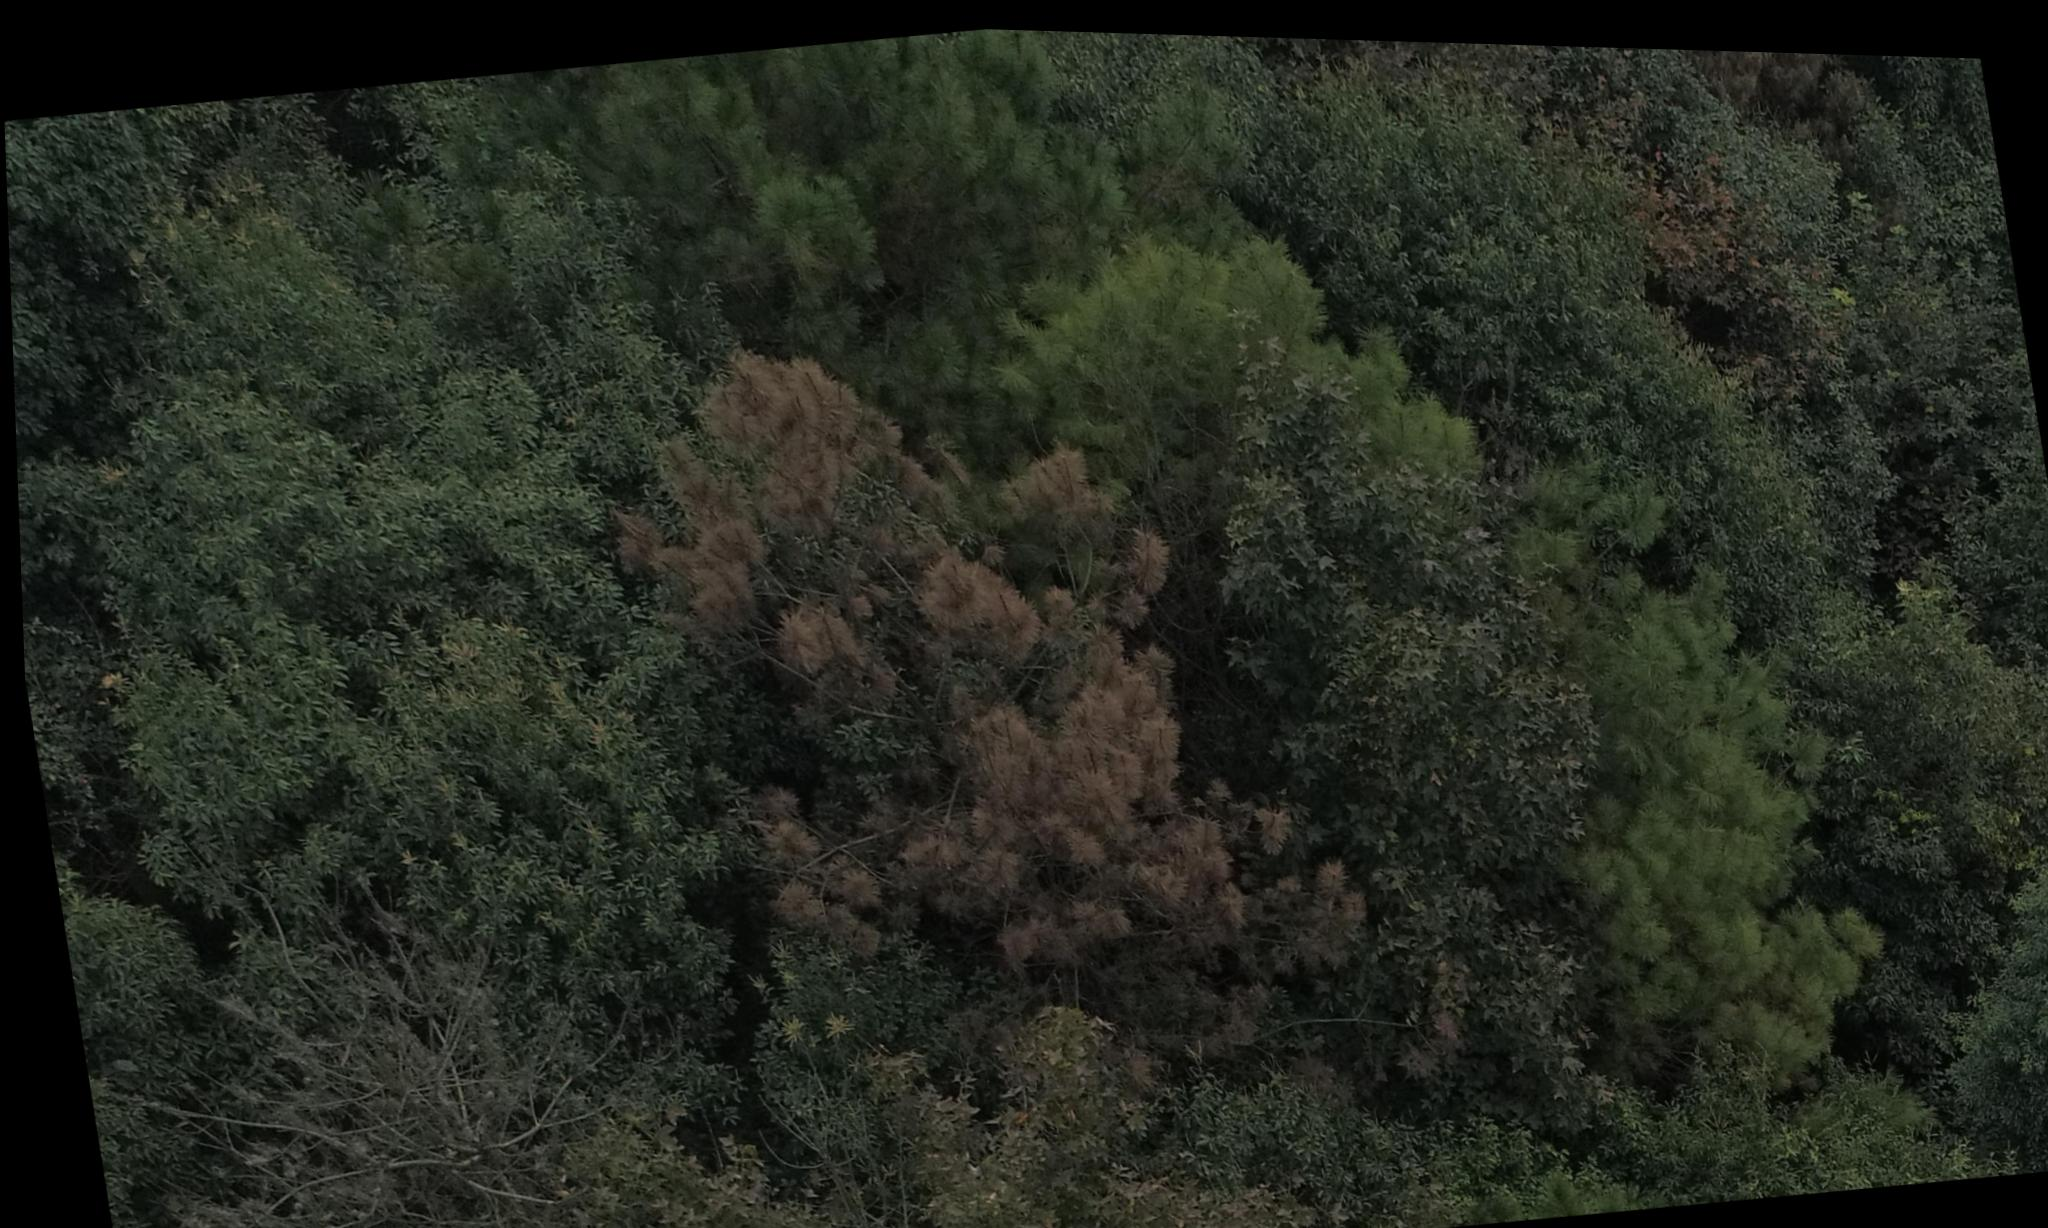dead: (140, 898, 605, 1228)
light: (592, 289, 1362, 1114)
